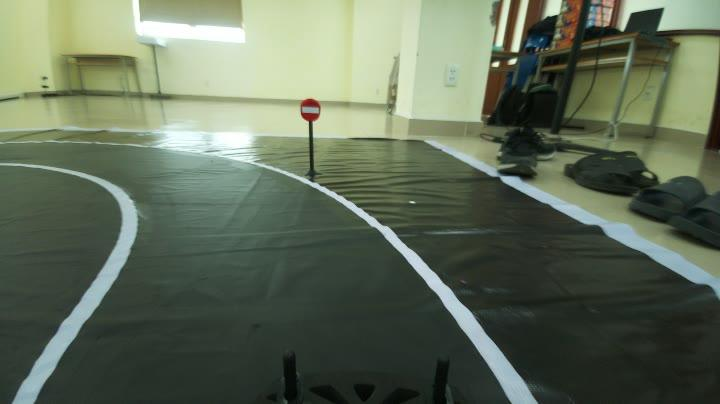no_entry: (297, 96, 323, 123)
